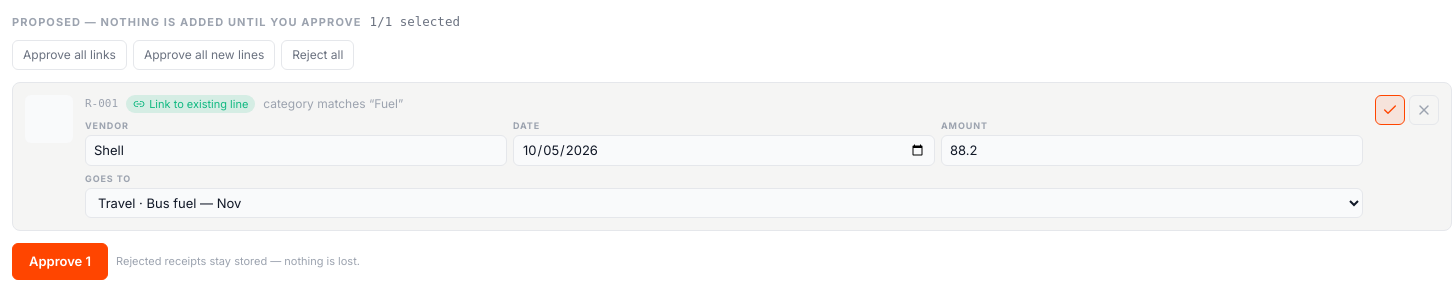
Test: RCP-06 — reject writes nothing › rejecting everything disables Approve, so no request is possible
The image size is (1452, 297).
Click the button named "Reject". click: [1424, 110]
box: [1409,95,1439,125]
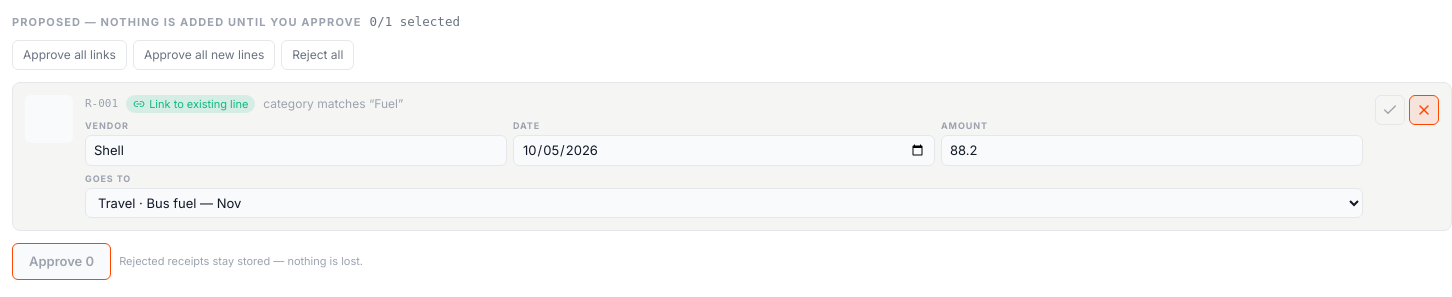
Now the button with test id "receipt-apply" is disabled, box [12,243,111,280]
